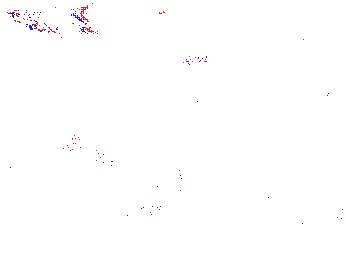X-ray fish: (49, 138, 118, 178), (302, 4, 329, 36)
glassfish: (154, 135, 192, 204), (114, 195, 172, 226)
red belly glassfish: (183, 47, 232, 67)
redtail glassfish: (4, 3, 91, 25), (182, 1, 248, 22), (23, 18, 93, 37)
